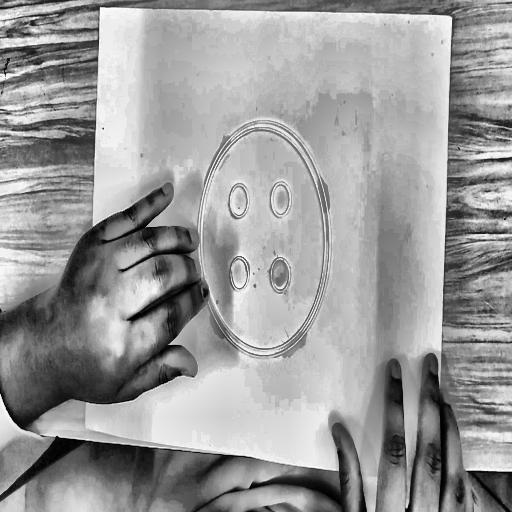bottom_left: (82, 419, 90, 432)
bottom_right: (436, 472, 443, 483)
button: (188, 111, 341, 380)
top_left: (97, 0, 105, 14)
top_right: (448, 10, 458, 27)
